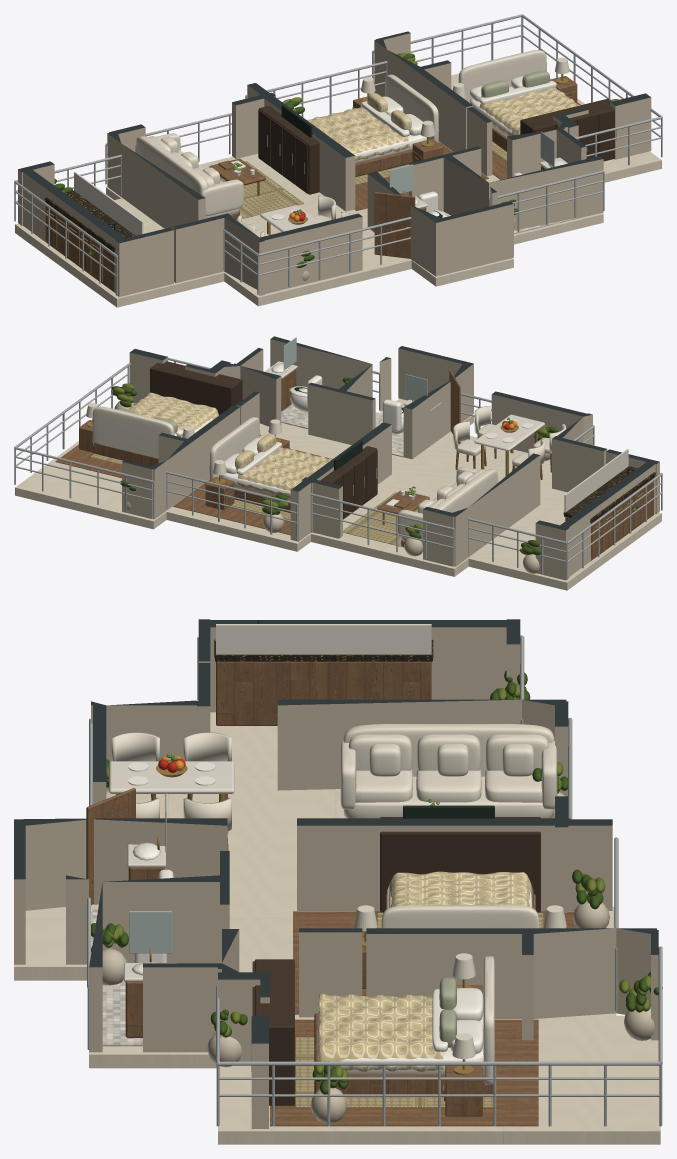
3 views of the same model, one above another, from view 1: azimuth 30°, elevation 25°; view 2: azimuth 150°, elevation 25°; view 3: azimuth 270°, elevation 25° (orthographic). The views are drawn at different scales.
Parts seen in each view (by area): view 1: Source-traced internal and perimeter walls • Wall, Continuous apartment foundation, Soft jacquard duvet with folds, Oak entrance door, Soft jacquard duvet with folds.001, Padded headboard.001, Living patterned carpet, Sofa back, Padded headboard, Backsplash, Rounded armrest, Fitted dark wardrobe (+18 smaller); view 2: Source-traced internal and perimeter walls • Wall, Continuous apartment foundation, Fitted dark wardrobe.001, Padded headboard.001, Soft jacquard duvet with folds, Soft jacquard duvet with folds.001, Full bedroom wood flooring, Padded headboard, Backsplash, Living patterned carpet, Sofa back, Dining top (+22 smaller); view 3: Source-traced internal and perimeter walls • Wall, Continuous apartment foundation, Base cabinets, Full bedroom wood flooring.001, Soft jacquard duvet with folds.001, Fitted dark wardrobe, Backsplash, Soft jacquard duvet with folds, Fitted dark wardrobe.001, Padded headboard, Dining top, Sofa back (+36 smaller).
Boxes of the visible parts, <box> form: Source-traced internal and perimeter walls • Wall: <box>18,31,651,296</box>; Continuous apartment foundation: <box>15,73,661,307</box>; Soft jacquard duvet with folds: <box>307,106,409,160</box>; Oak entrance door: <box>374,192,415,258</box>; Soft jacquard duvet with folds.001: <box>478,87,580,136</box>; Padded headboard.001: <box>458,50,546,102</box>; Living patterned carpet: <box>220,161,304,220</box>; Sofa back: <box>136,135,207,194</box>; Padded headboard: <box>385,74,438,142</box>; Backsplash: <box>74,172,143,235</box>; Rounded armrest: <box>200,179,243,216</box>; Fitted dark wardrobe: <box>259,105,319,194</box>; Source-traced internal and perimeter walls • Wall: <box>122,336,659,580</box>; Continuous apartment foundation: <box>15,398,661,590</box>; Fitted dark wardrobe.001: <box>150,361,242,415</box>; Padded headboard.001: <box>92,406,174,458</box>; Soft jacquard duvet with folds: <box>236,447,331,498</box>; Soft jacquard duvet with folds.001: <box>129,392,218,437</box>; Full bedroom wood flooring: <box>173,448,332,535</box>; Padded headboard: <box>209,417,259,480</box>; Backsplash: <box>564,449,628,512</box>; Living patterned carpet: <box>343,492,417,547</box>; Sofa back: <box>435,469,497,512</box>; Dining top: <box>474,414,544,451</box>; Source-traced internal and perimeter walls • Wall: <box>14,619,658,1128</box>; Continuous apartment foundation: <box>14,712,660,1144</box>; Base cabinets: <box>216,661,431,725</box>; Full bedroom wood flooring.001: <box>270,1019,538,1126</box>; Soft jacquard duvet with folds.001: <box>318,993,443,1071</box>; Fitted dark wardrobe: <box>380,817,540,912</box>; Backsplash: <box>216,624,431,654</box>; Soft jacquard duvet with folds: <box>387,871,533,908</box>; Fitted dark wardrobe.001: <box>255,959,294,1105</box>; Padded headboard: <box>381,905,539,928</box>; Dining top: <box>109,761,234,793</box>; Sofa back: <box>343,724,554,776</box>.
Size of the model in its own units: 12.12 by 1.7 by 7.75.
Materials: 26 (6 with a texture image).
